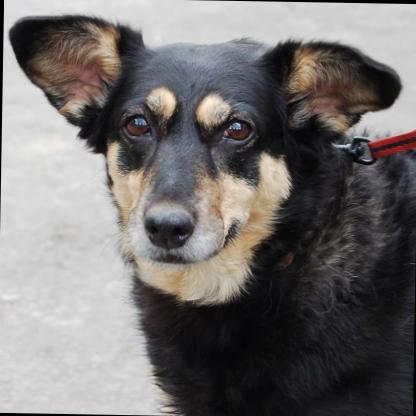kelpie: (0, 8, 416, 415)
